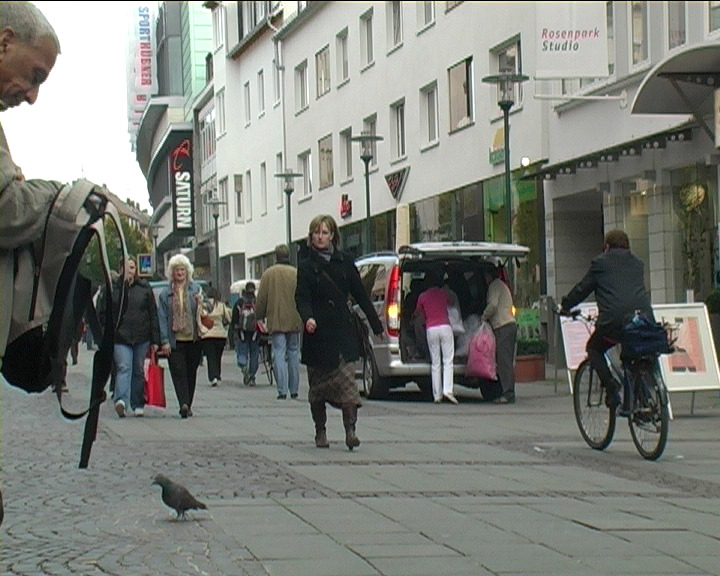undeflect: (303, 215, 358, 289), (158, 254, 201, 305)
